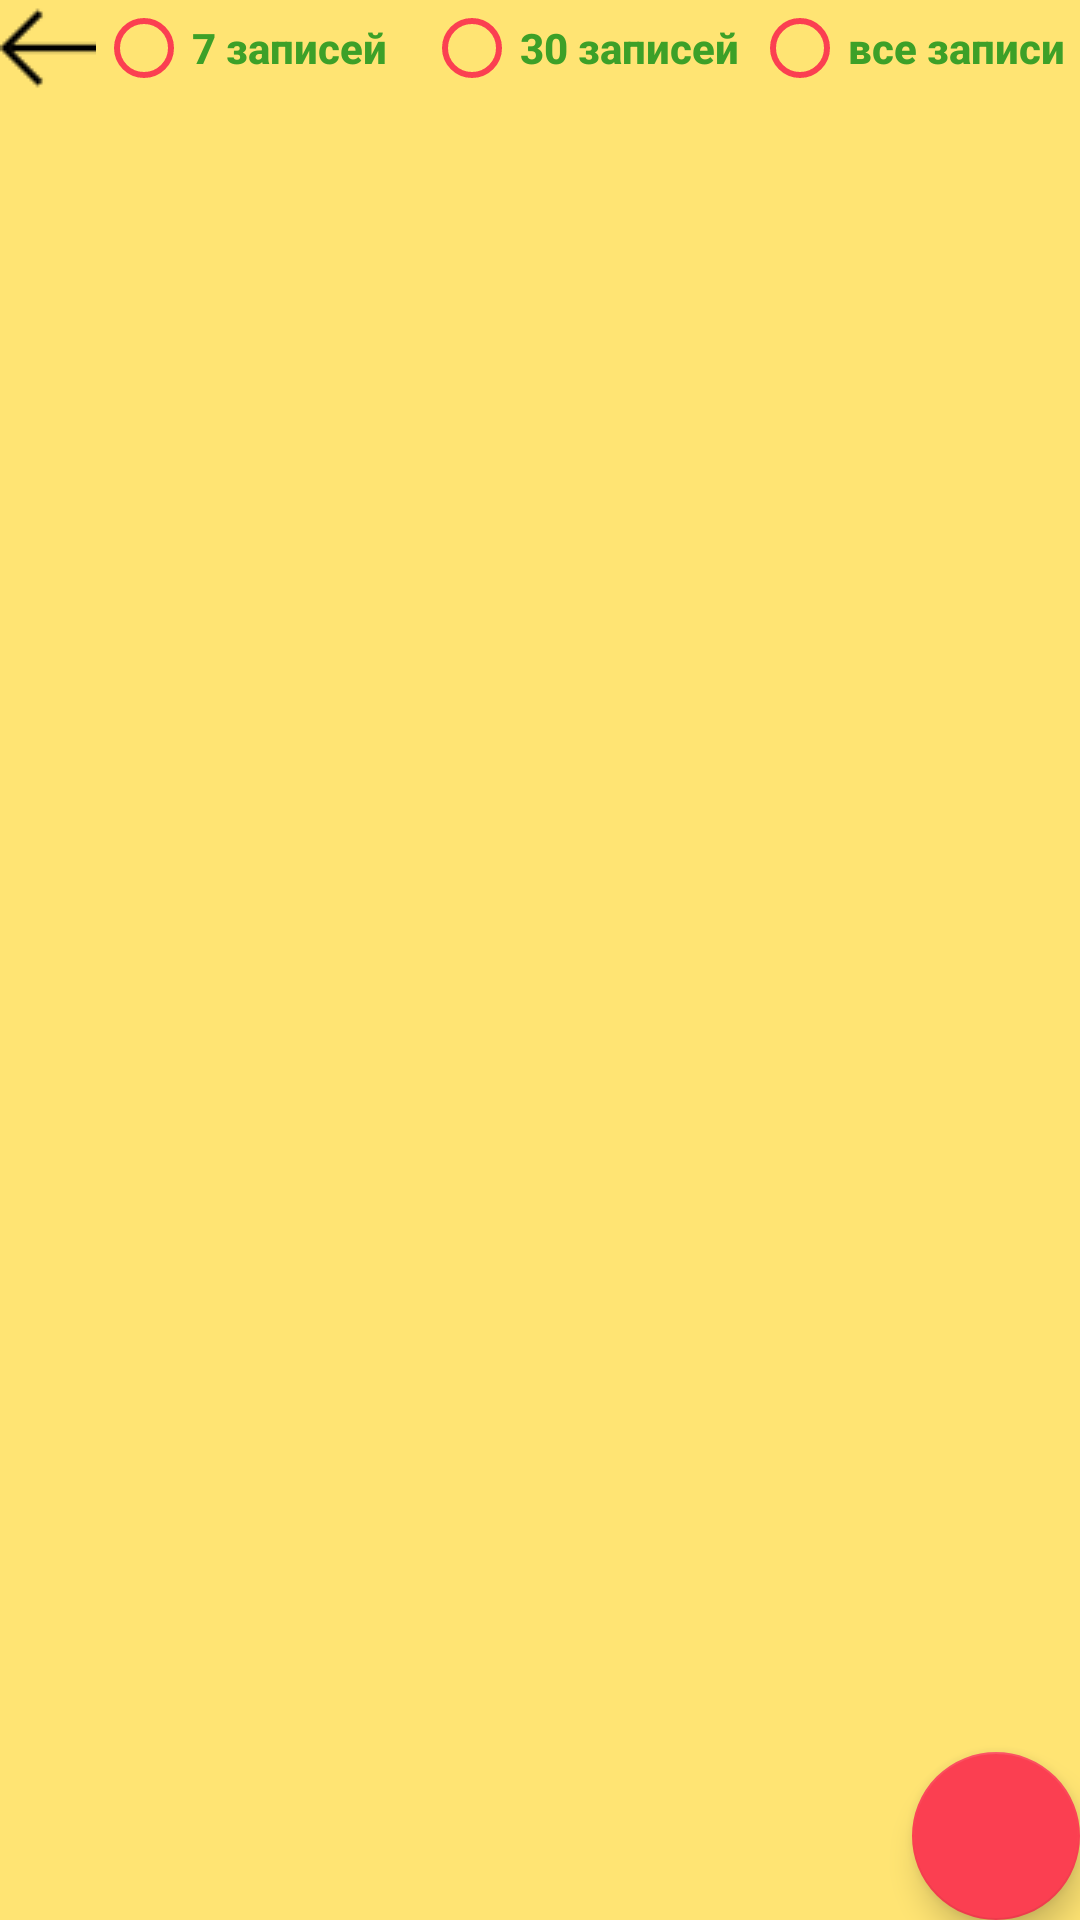

Named icons in this screenshot (1080x1920) and their centers, point (x, y):
bac: point (48, 48)
